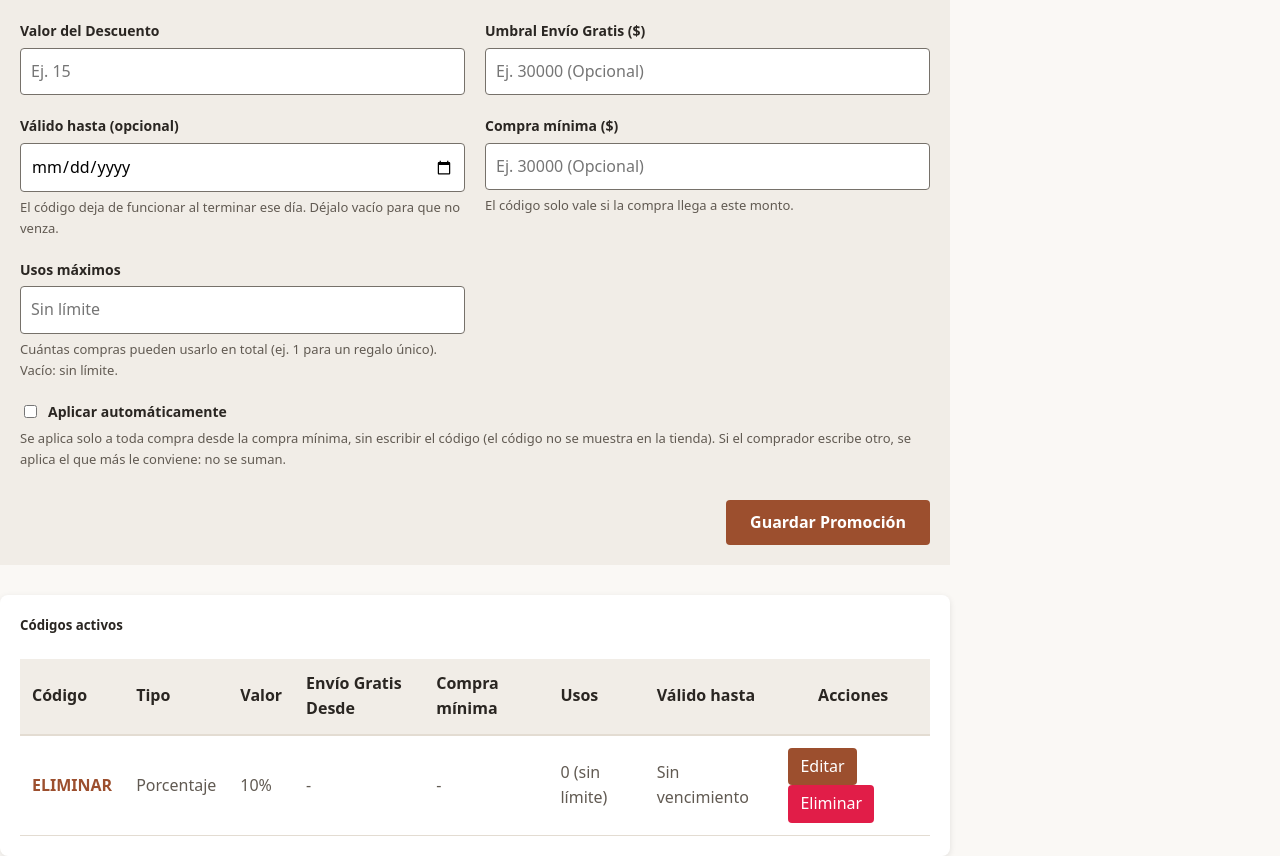
GestorPromociones › elimina una promoción correctamente
This screenshot has width=1280, height=856.
(page scrolled)
Expected: the text "ELIMINAR" is shown, [20,735,124,835]
Click the button "Eliminar". click: [831, 804]
box: [788,785,874,823]
(page scrolled)
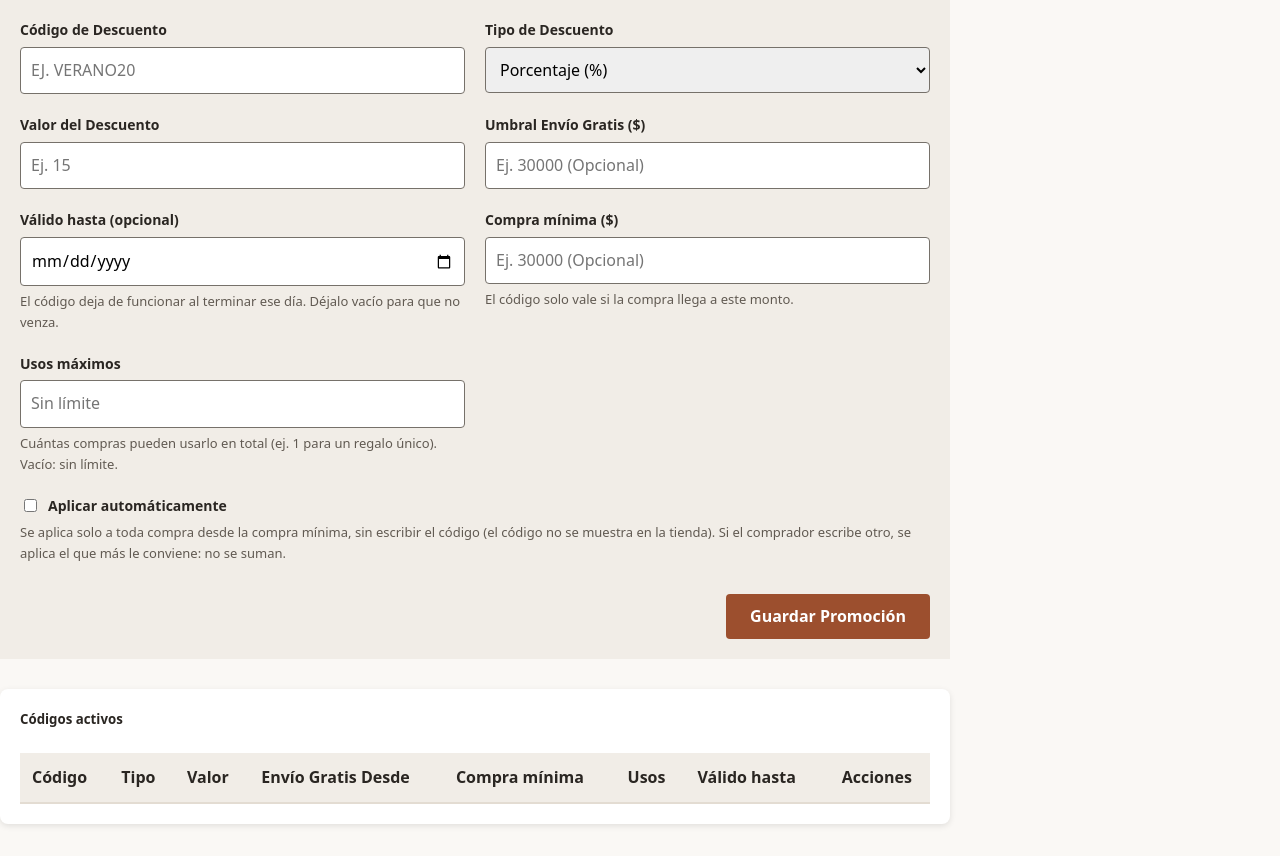
Now the text "ELIMINAR" is gone
